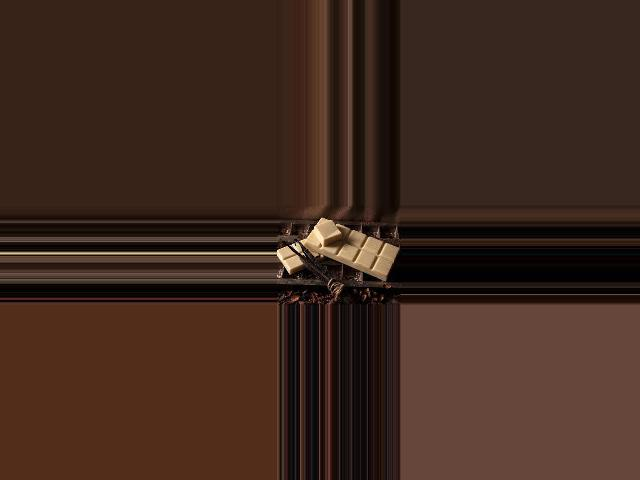chocolate: (301, 218, 398, 279)
